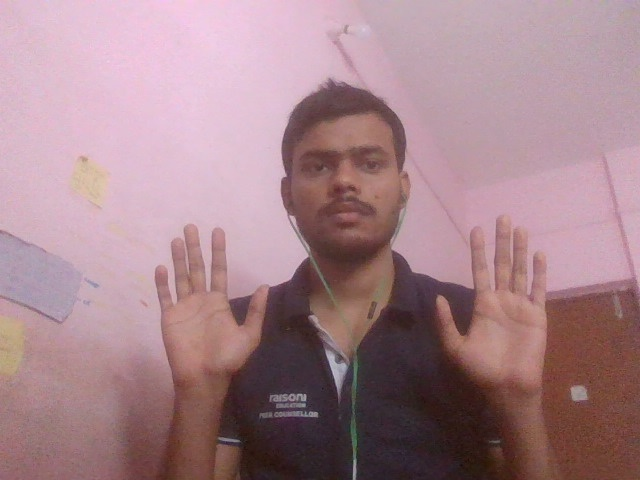allDone: (101, 199, 568, 407)
